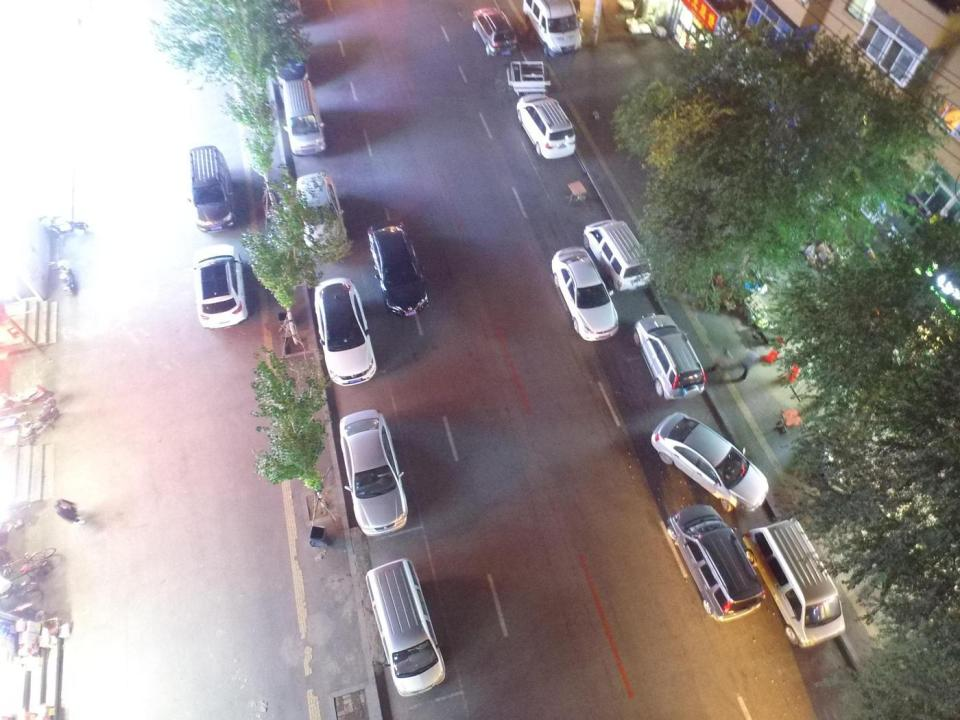car: (650, 410, 770, 516), (338, 407, 409, 537), (313, 276, 378, 387), (551, 245, 619, 342), (366, 218, 429, 318), (194, 243, 250, 329), (295, 171, 349, 255), (470, 4, 518, 60), (270, 30, 309, 86), (265, 0, 303, 25)
van: (742, 516, 846, 650), (665, 503, 767, 623), (364, 556, 447, 698), (632, 311, 708, 402), (582, 220, 653, 292), (187, 144, 237, 232), (515, 91, 576, 161), (281, 78, 327, 157), (522, 0, 583, 58)
